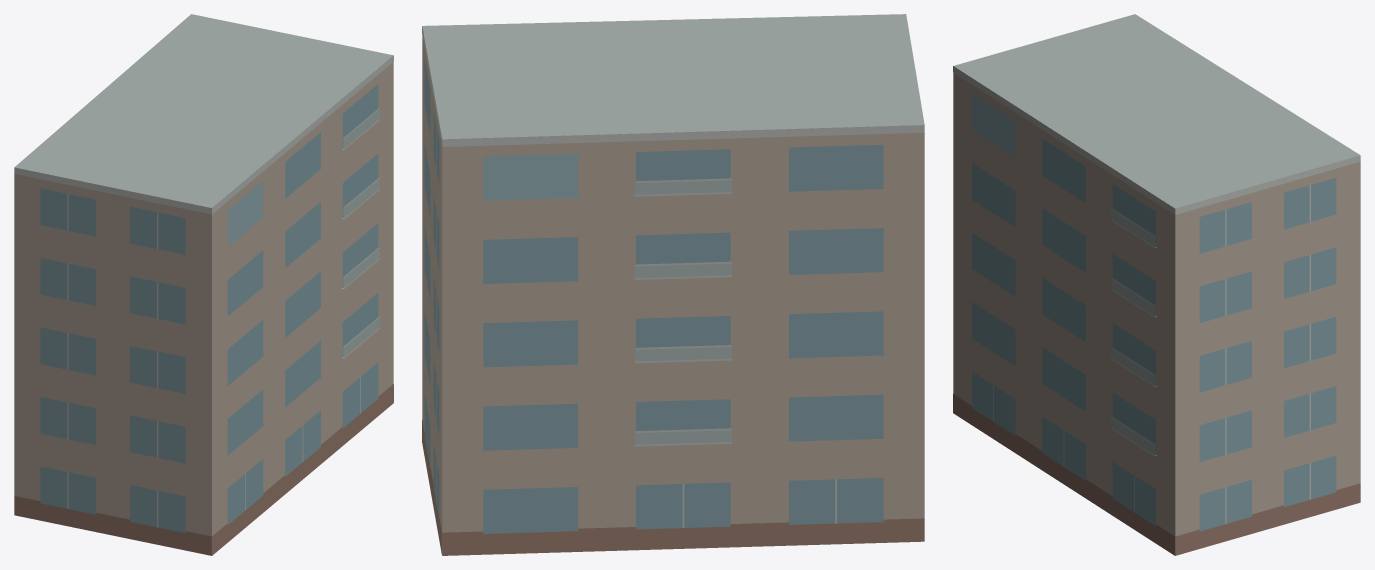
The model's file is survey-upis-32883364.glb.
The picture shows the model from 3 angles, left to right: view 1: azimuth 30°, elevation 25°; view 2: azimuth 150°, elevation 25°; view 3: azimuth 270°, elevation 25°; orthographic projection. The views are drawn at different scales.
Visible parts, largest first — view 1: survey-upis-32883364.tmp; view 2: survey-upis-32883364.tmp; view 3: survey-upis-32883364.tmp.
Boxes of the visible parts, bbox=[...] form: survey-upis-32883364.tmp: bbox=[14, 14, 393, 555]; survey-upis-32883364.tmp: bbox=[422, 14, 924, 555]; survey-upis-32883364.tmp: bbox=[953, 14, 1360, 555].
Size of the model in its own units: 15.88 by 13.2 by 14.05.
